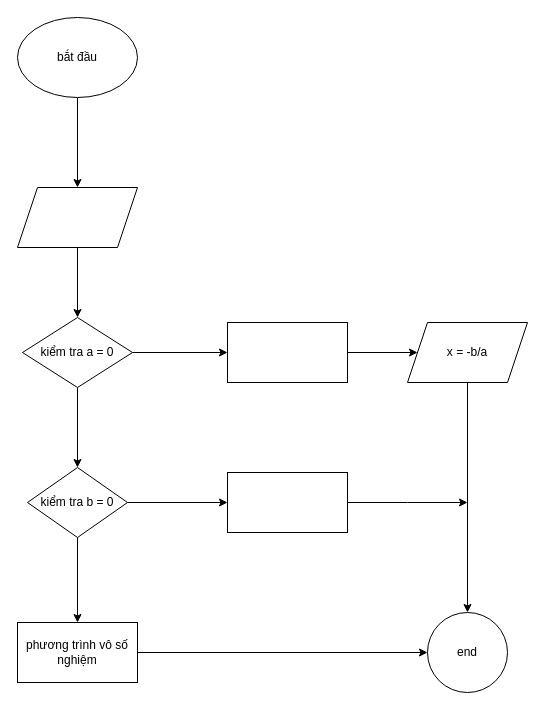
Some shapes in this 545 by 710 pixel diagram are drawn without their labels. The centre of each missing label's shape, as x and y in pixels:
"nhập 2 số a,b" goes at [77,217].
"phương trình có nghiệm" goes at [287,352].
"phương trình vô nghiệm" goes at [287,502].
